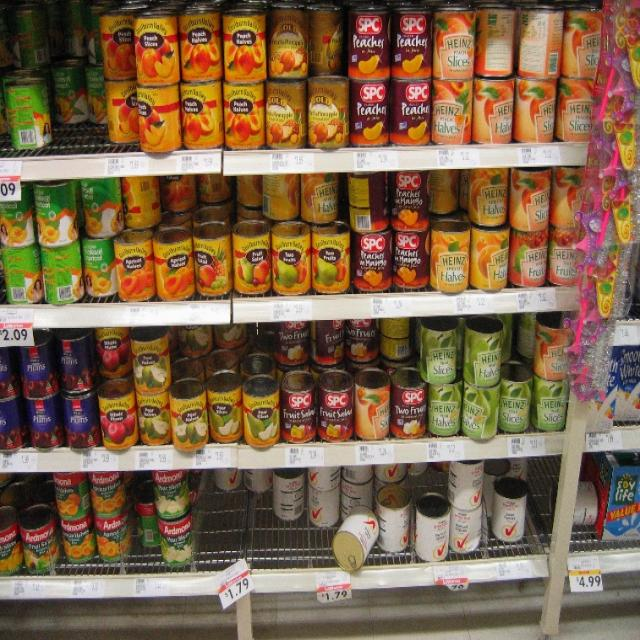q91: (33, 158, 83, 254), (0, 238, 43, 319), (80, 165, 120, 244), (40, 237, 79, 308)
